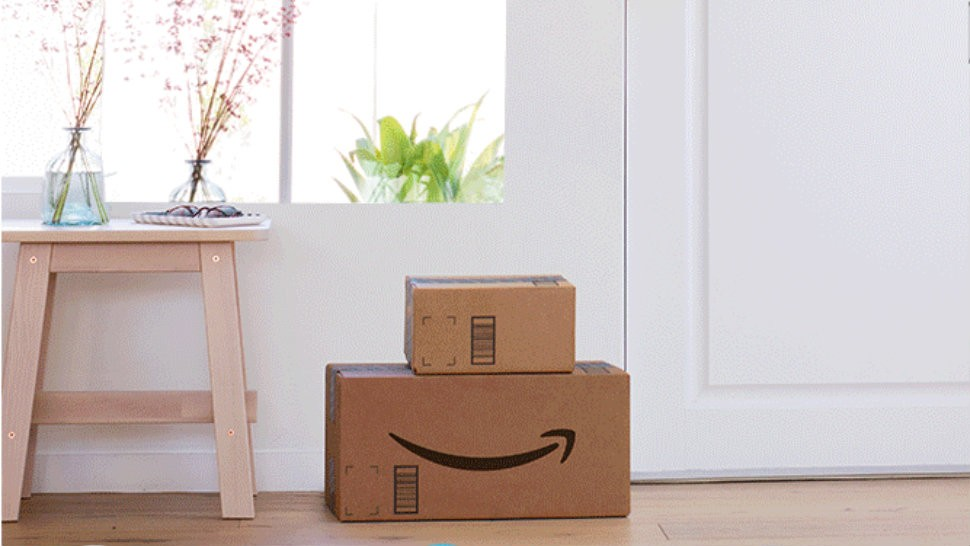package: (321, 361, 633, 525), (400, 271, 578, 375)
